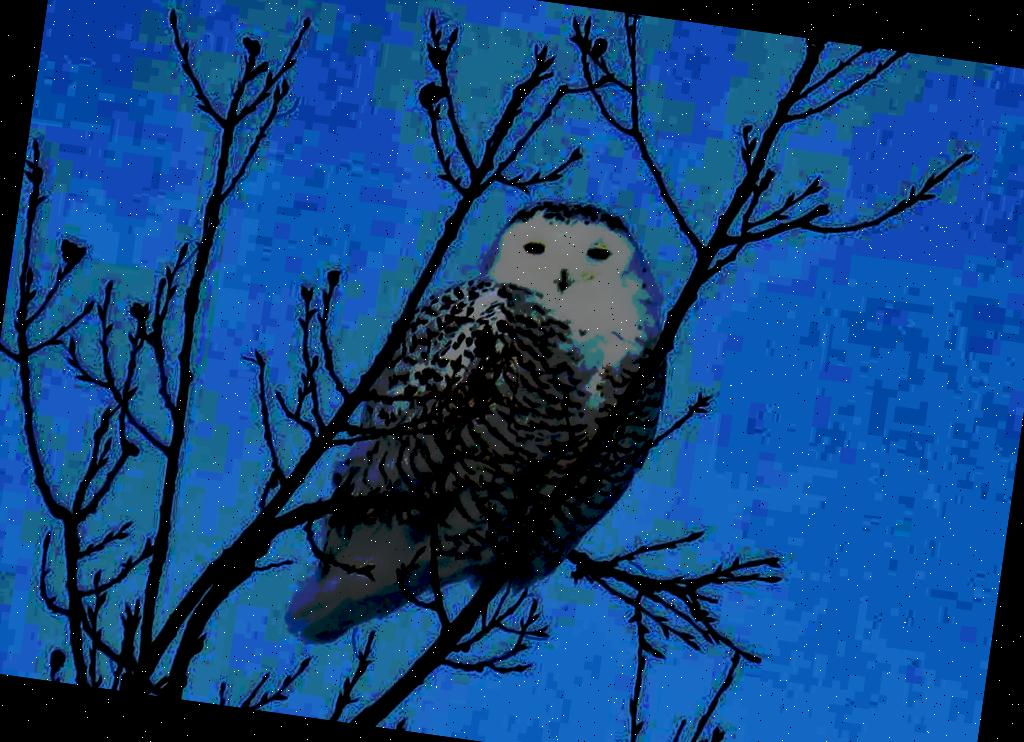Owl: (278, 164, 682, 694)
